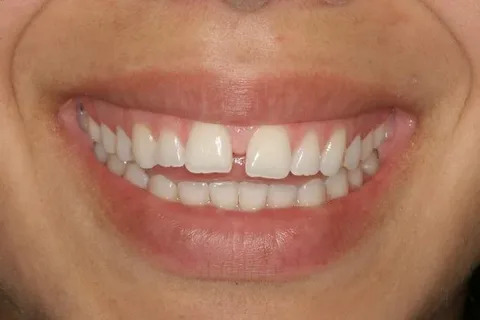Gap: (209, 138, 267, 177)
